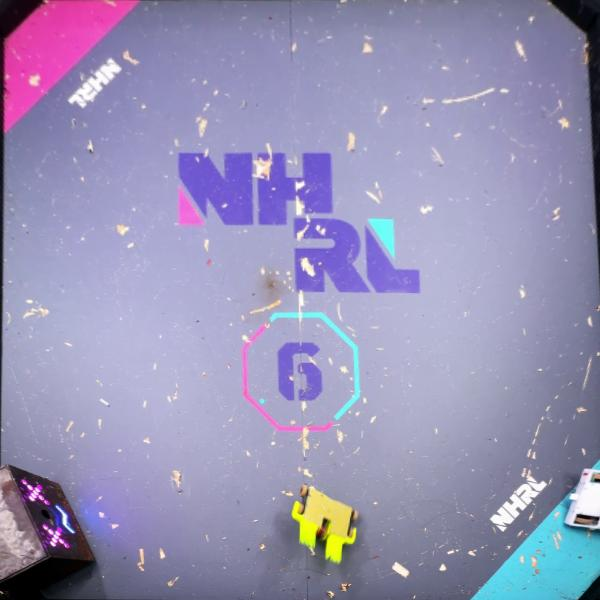housebot: (0, 465, 98, 600)
robot: (292, 485, 358, 564), (564, 468, 600, 532)
